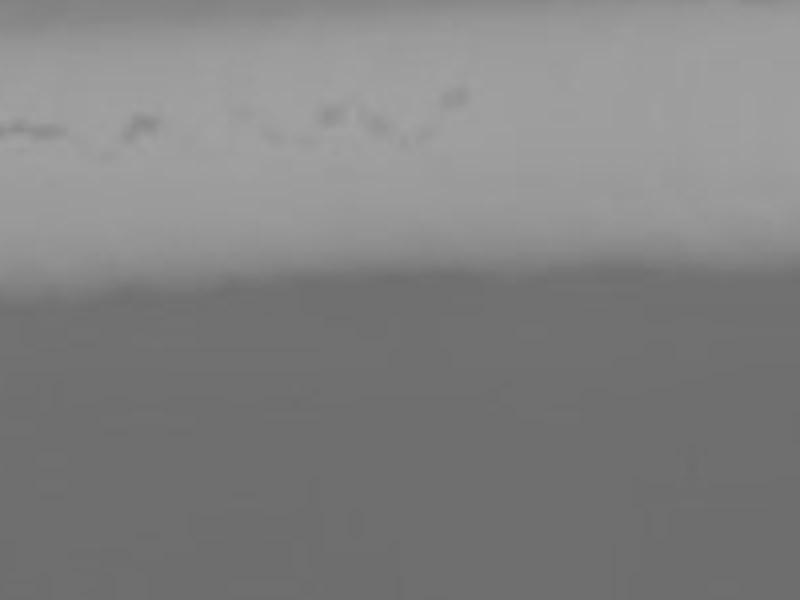defect: (125, 110, 153, 147), (320, 100, 353, 128), (437, 84, 471, 110), (368, 113, 396, 140), (33, 123, 67, 145), (407, 123, 434, 148), (1, 119, 33, 137), (263, 123, 287, 147), (302, 137, 322, 154)
